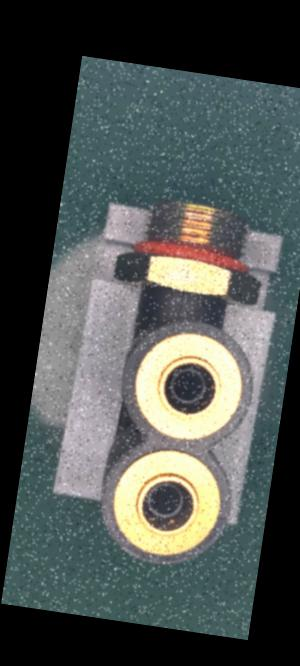joint line: (180, 298, 191, 319)
